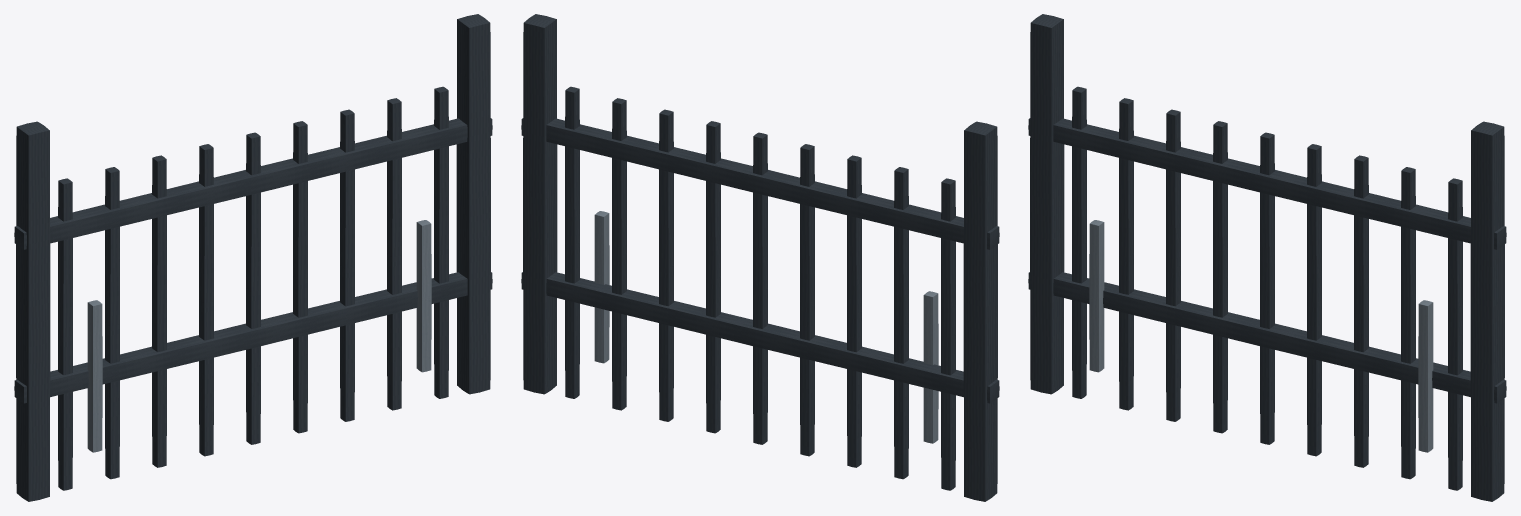
3 renders of one model, left to right at view 1: azimuth 30°, elevation 25°; view 2: azimuth 150°, elevation 25°; view 3: azimuth 330°, elevation 25°, orthographic.
Visible parts, largest first — view 1: iron.0, iron.1, iron.3, iron.2, iron.12, iron.4, iron.10, iron.11, iron.5, iron.6, iron.9, iron.7 (+3 smaller); view 2: iron.0, iron.1, iron.3, iron.2, iron.4, iron.12, iron.5, iron.6, iron.10, iron.11, iron.7, iron.9 (+3 smaller); view 3: iron.1, iron.0, iron.3, iron.2, iron.12, iron.4, iron.11, iron.10, iron.6, iron.5, iron.9, iron.7 (+3 smaller).
Boxes of the visible parts, x1,y1,x2,y2 form: iron.0: [16, 121, 50, 501]; iron.1: [456, 14, 490, 394]; iron.3: [14, 118, 492, 249]; iron.2: [14, 272, 492, 403]; iron.12: [434, 86, 448, 398]; iron.4: [58, 178, 72, 490]; iron.10: [340, 109, 354, 421]; iron.11: [387, 98, 401, 410]; iron.5: [105, 167, 119, 479]; iron.6: [152, 155, 166, 467]; iron.9: [293, 121, 307, 433]; iron.7: [199, 144, 213, 456]; iron.0: [963, 121, 997, 501]; iron.1: [523, 14, 557, 394]; iron.3: [521, 118, 999, 249]; iron.2: [521, 272, 999, 403]; iron.4: [941, 178, 955, 490]; iron.12: [565, 86, 579, 398]; iron.5: [894, 167, 908, 479]; iron.6: [847, 155, 861, 467]; iron.10: [659, 109, 673, 421]; iron.11: [612, 98, 626, 410]; iron.7: [800, 144, 814, 456]; iron.9: [706, 121, 720, 433]; iron.1: [1470, 121, 1504, 501]; iron.0: [1030, 14, 1064, 394]; iron.3: [1028, 118, 1506, 249]; iron.2: [1028, 272, 1506, 403]; iron.12: [1448, 178, 1462, 490]; iron.4: [1072, 86, 1086, 398]; iron.11: [1401, 167, 1415, 479]; iron.10: [1354, 155, 1368, 467]; iron.6: [1166, 109, 1180, 421]; iron.5: [1119, 98, 1133, 410]; iron.9: [1307, 144, 1321, 456]; iron.7: [1213, 121, 1227, 433].
Bounding box in the file's own units: 1.6 × 1.2 × 0.0935.
2 materials, 2 textured.
